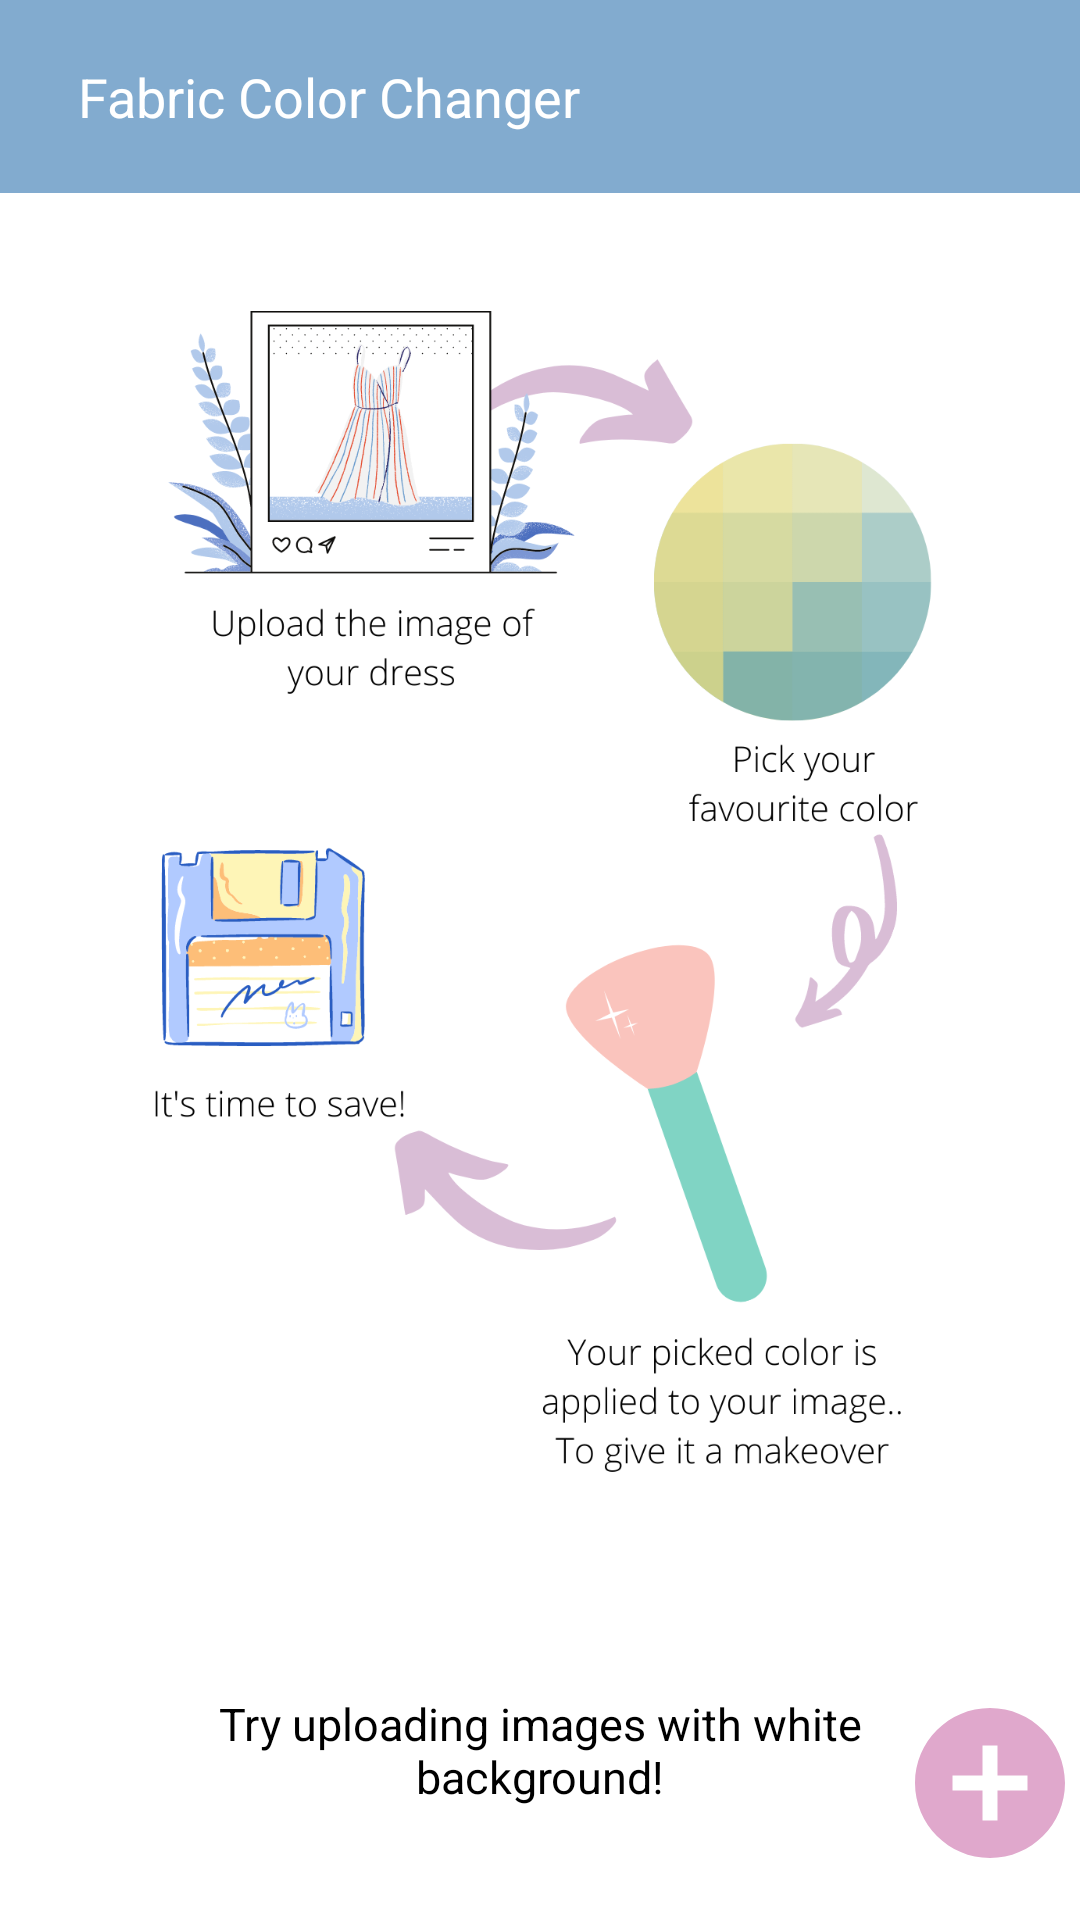

Screen size 1080×1920. Icon name, then its center in pixels as (x,y):
add circle: (990,1783)
